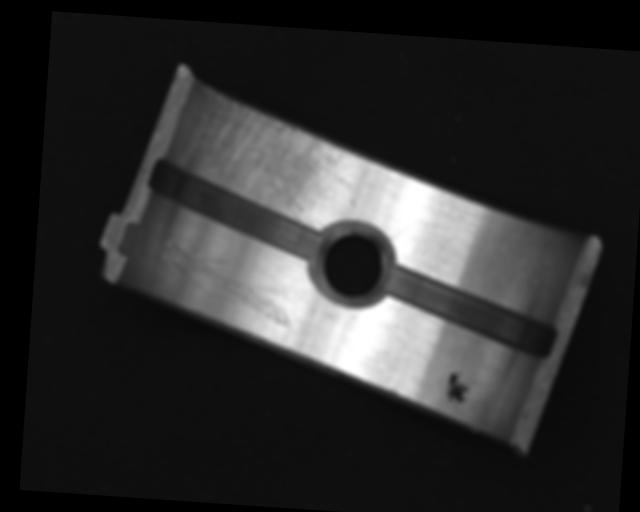blot: (443, 368, 474, 407)
gap: (143, 156, 329, 262), (380, 266, 560, 362)
hole: (315, 227, 393, 307)
nick: (160, 240, 297, 327)
scratch: (178, 83, 359, 237)
